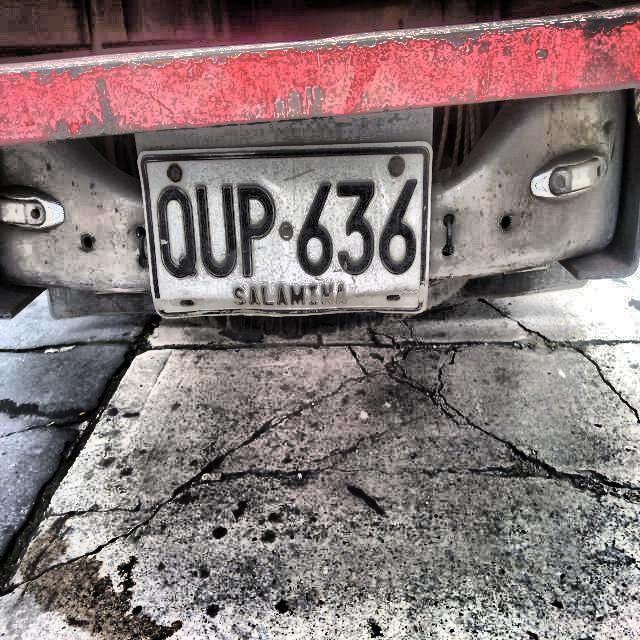plate: (142, 149, 426, 315)
